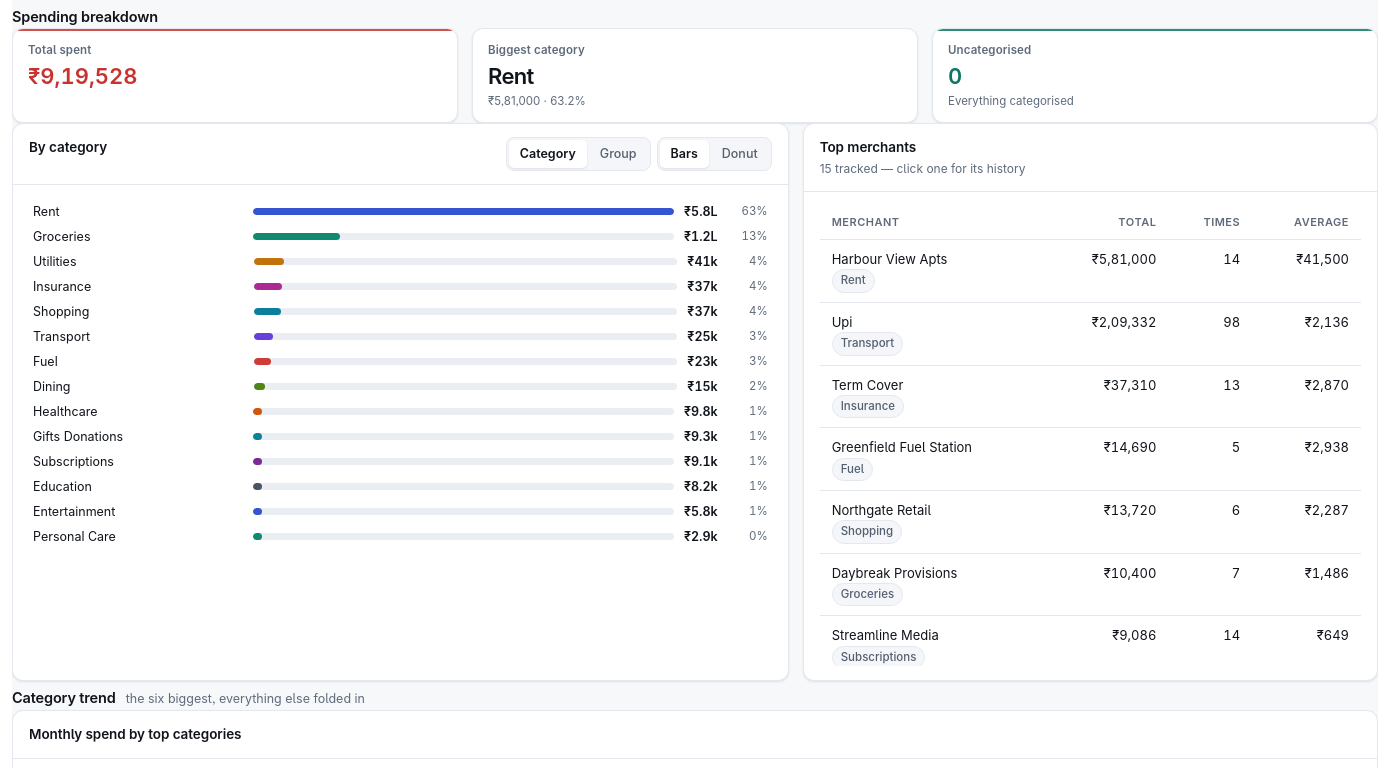
Scenario: Spending › switches between bars and a donut
Expected: the text "By category" is shown, 29,139 -> 107,155
Step 1. Click the tab "Donut" → (740, 154), box 711,140 -> 769,168
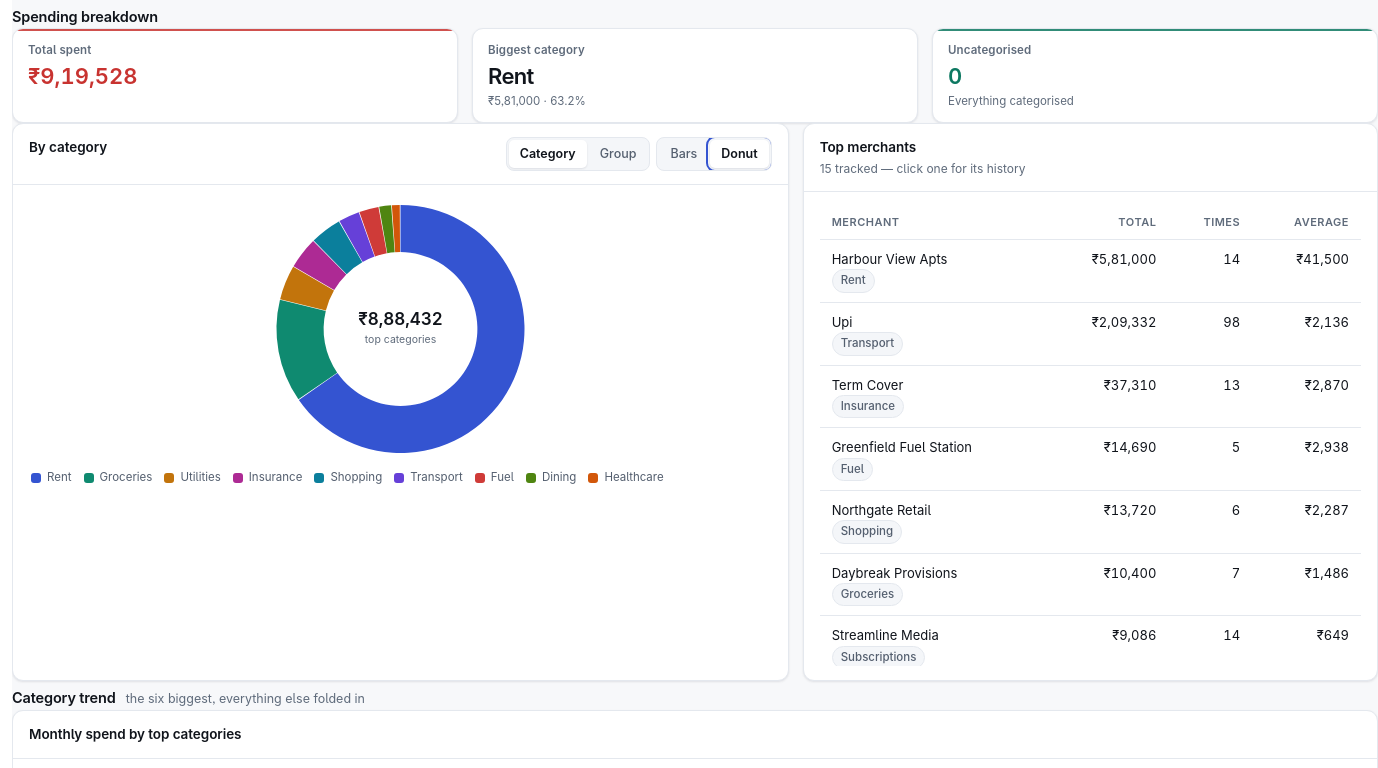
Expected: the picture named "donut chart" is shown, 29,199 -> 772,459
